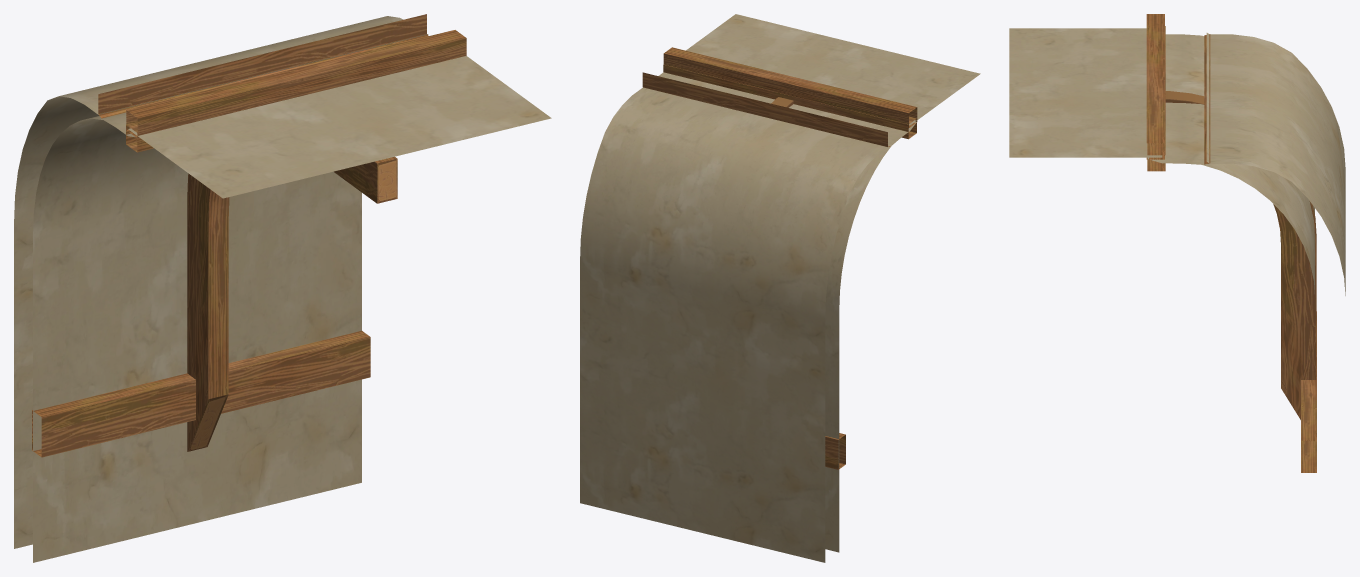
The model's file is Overhang_Plaster_Long.gltf.
3 renders of one model, left to right at view 1: azimuth 30°, elevation 25°; view 2: azimuth 150°, elevation 25°; view 3: azimuth 270°, elevation 25°, orthographic. The views are drawn at different scales.
Visible parts, largest first — view 1: Overhang_Plaster_Long; view 2: Overhang_Plaster_Long; view 3: Overhang_Plaster_Long.
Boxes of the visible parts, x1,y1,x2,y2 form: Overhang_Plaster_Long: [14, 14, 551, 562]; Overhang_Plaster_Long: [580, 14, 980, 562]; Overhang_Plaster_Long: [1009, 14, 1345, 472].
Size of the model in its own units: 2 by 3.03 by 2.2.
2 materials, 2 textured.
